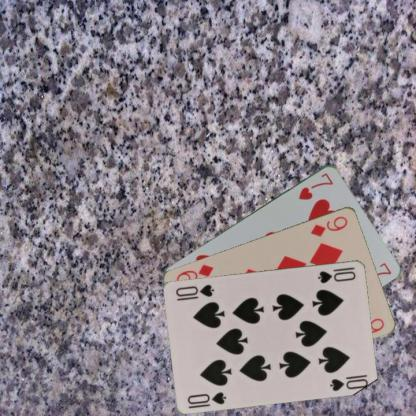10s: (316, 264, 357, 284), (185, 388, 228, 406)
7h: (296, 169, 334, 201)
9d: (308, 213, 349, 238)
